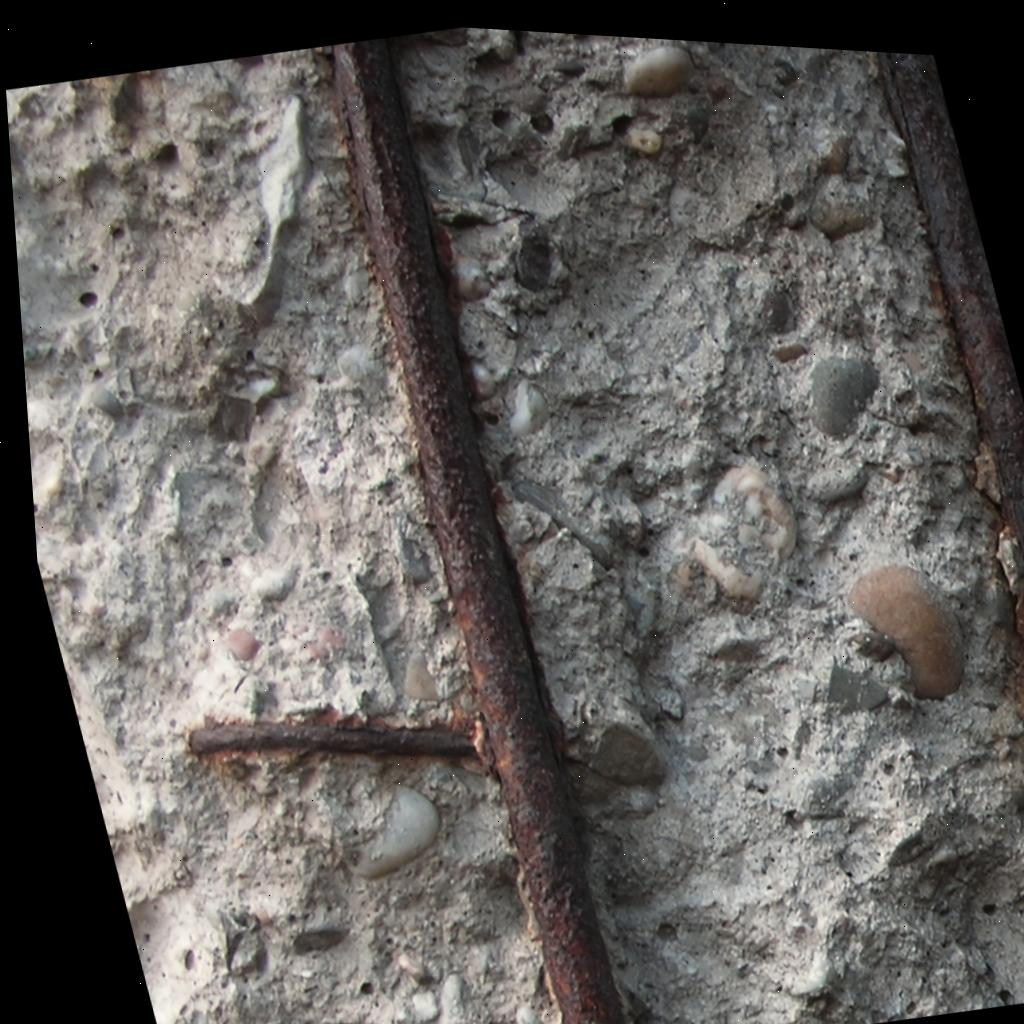spalling: (6, 27, 1024, 1024), (335, 39, 629, 1024), (881, 52, 1024, 559), (190, 722, 476, 758)
